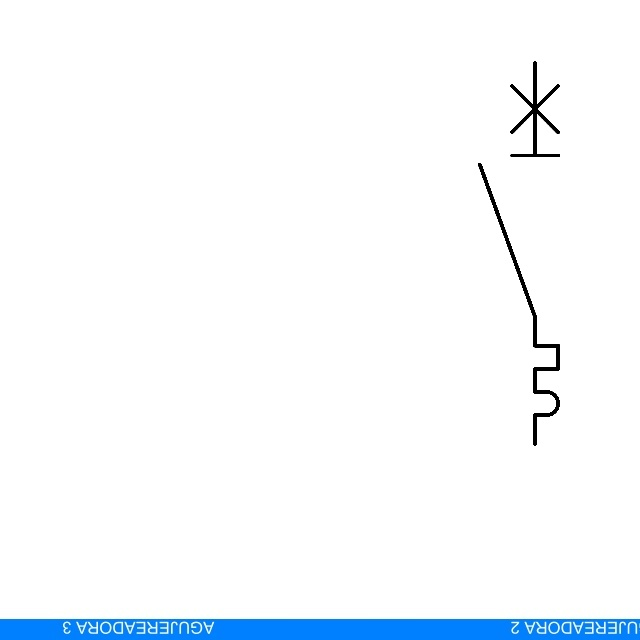interruptor_termomagnetico: (470, 53, 568, 454)
